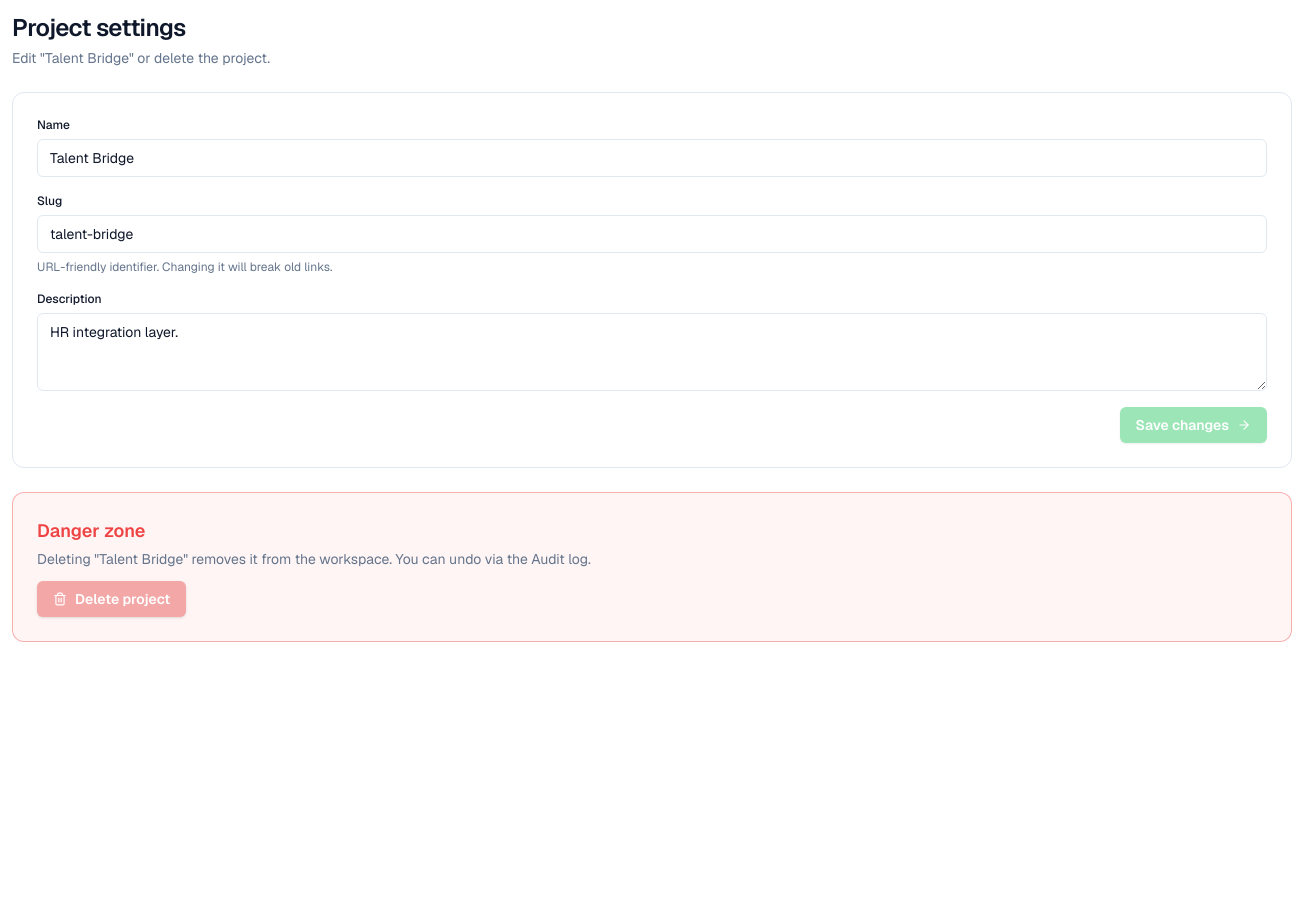
Test: ProjectSettingsPage › should PUT the updated values and show a saved status banner
Step 1. Replace the text in the field labelled "Name" with "Renamed Project" → (652, 158), box x1=37 y1=139 x2=1267 y2=177
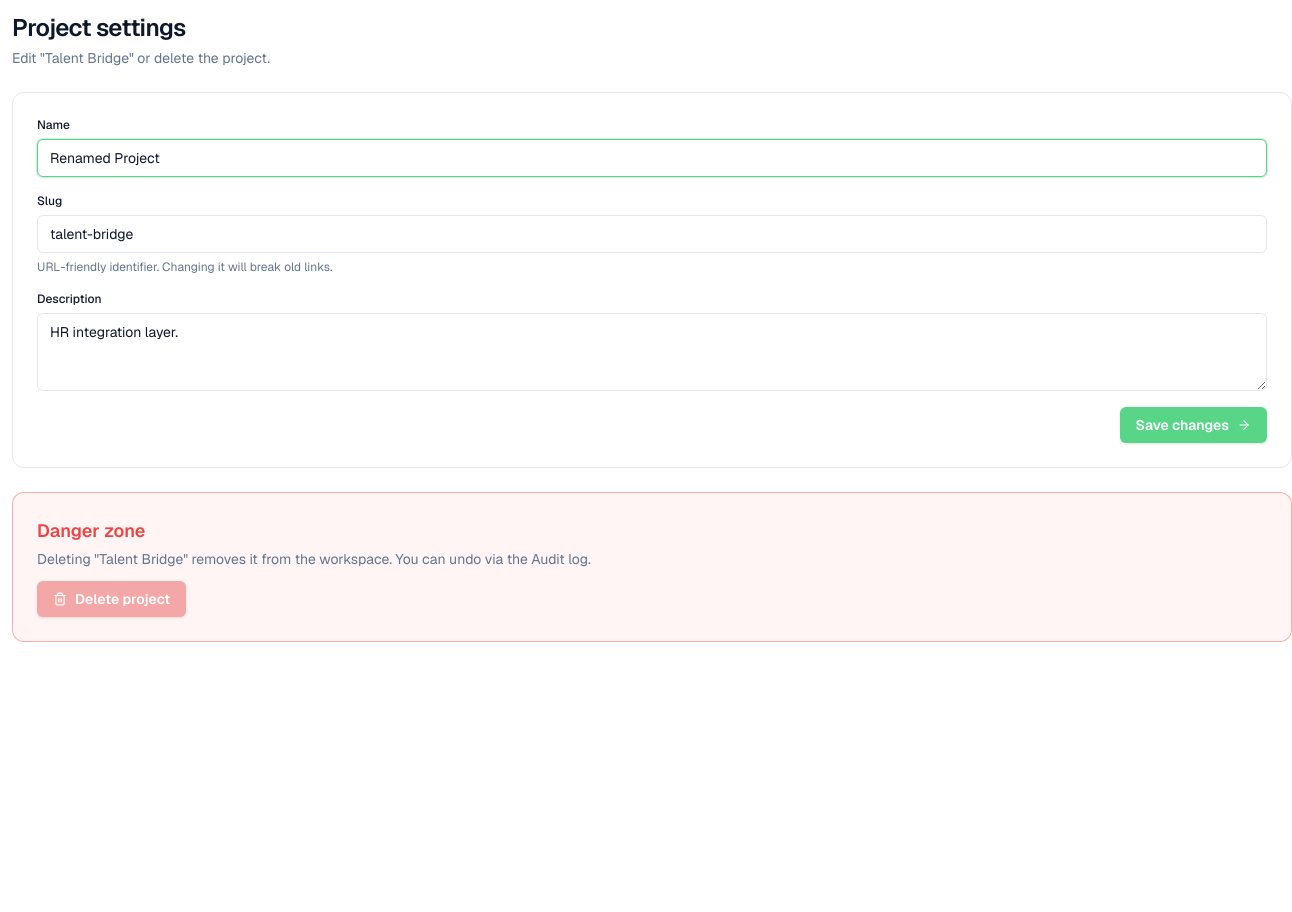
Step 2. Click the button "Save changes" → (1193, 425), box x1=1120 y1=407 x2=1267 y2=443
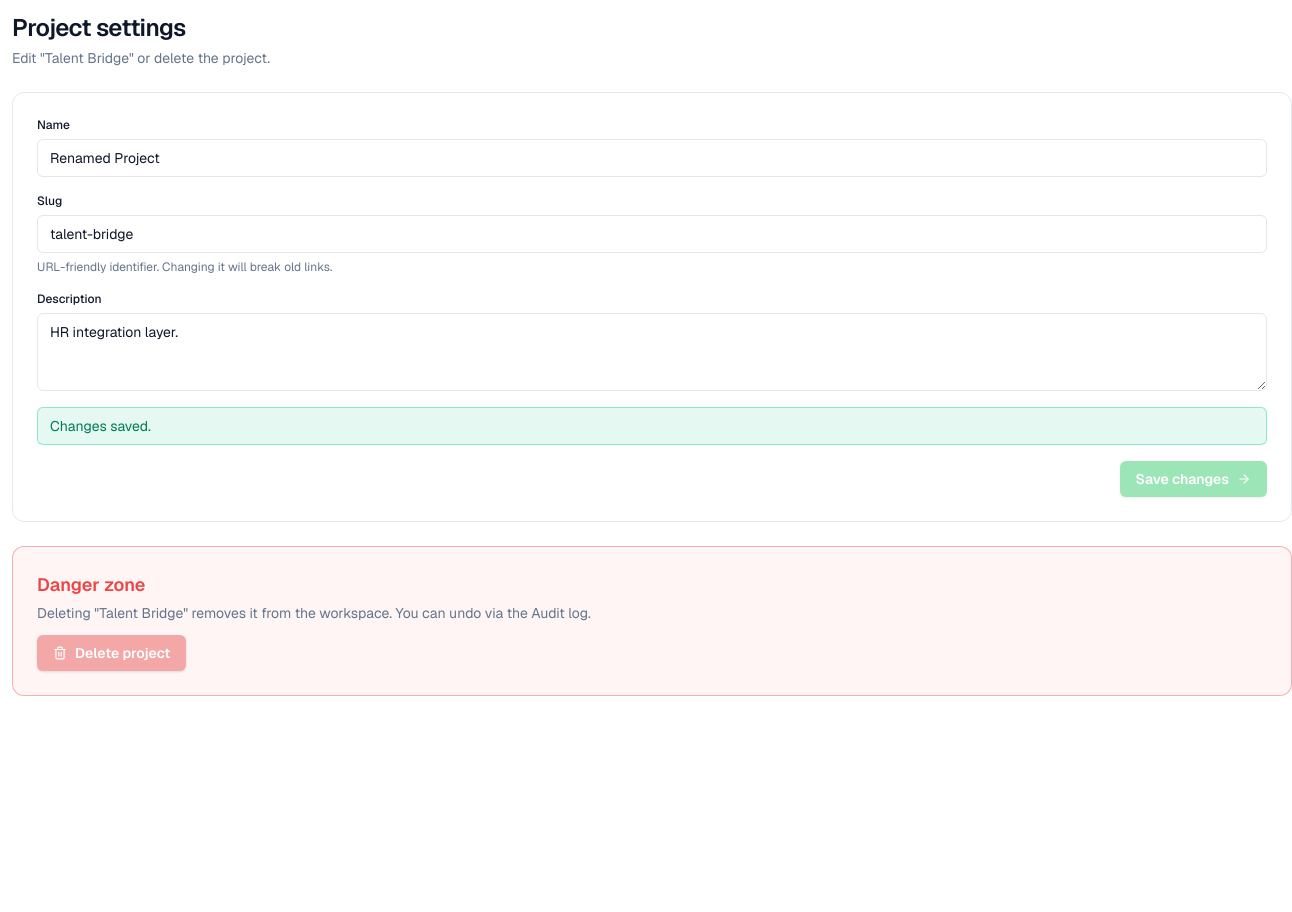
Expected: the message reads "Changes saved.", x1=50 y1=417 x2=151 y2=435
